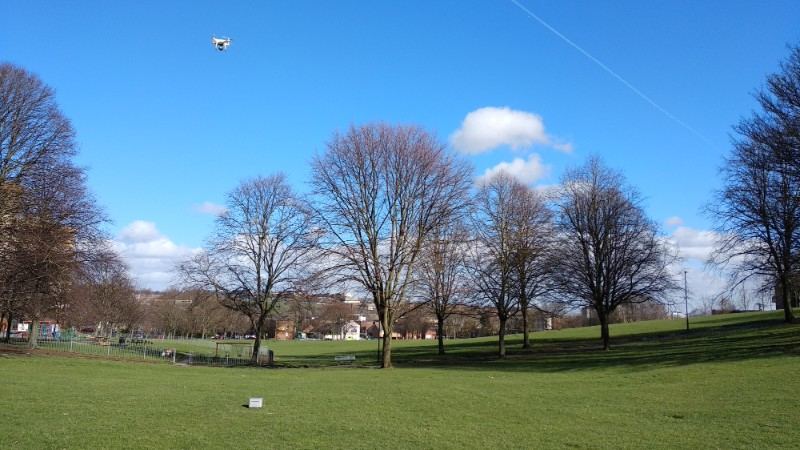drone: (210, 35, 235, 53)
